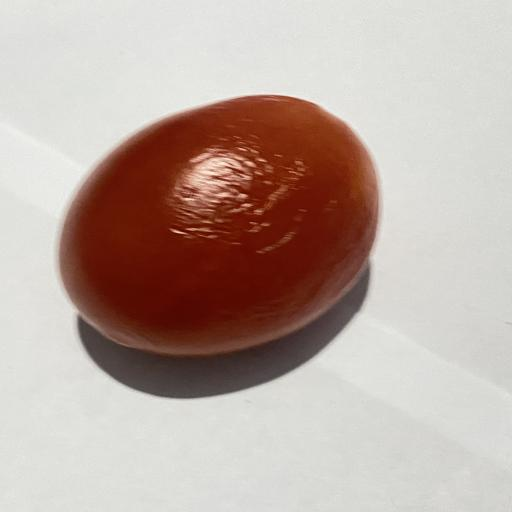spoiled: (60, 96, 378, 355)
